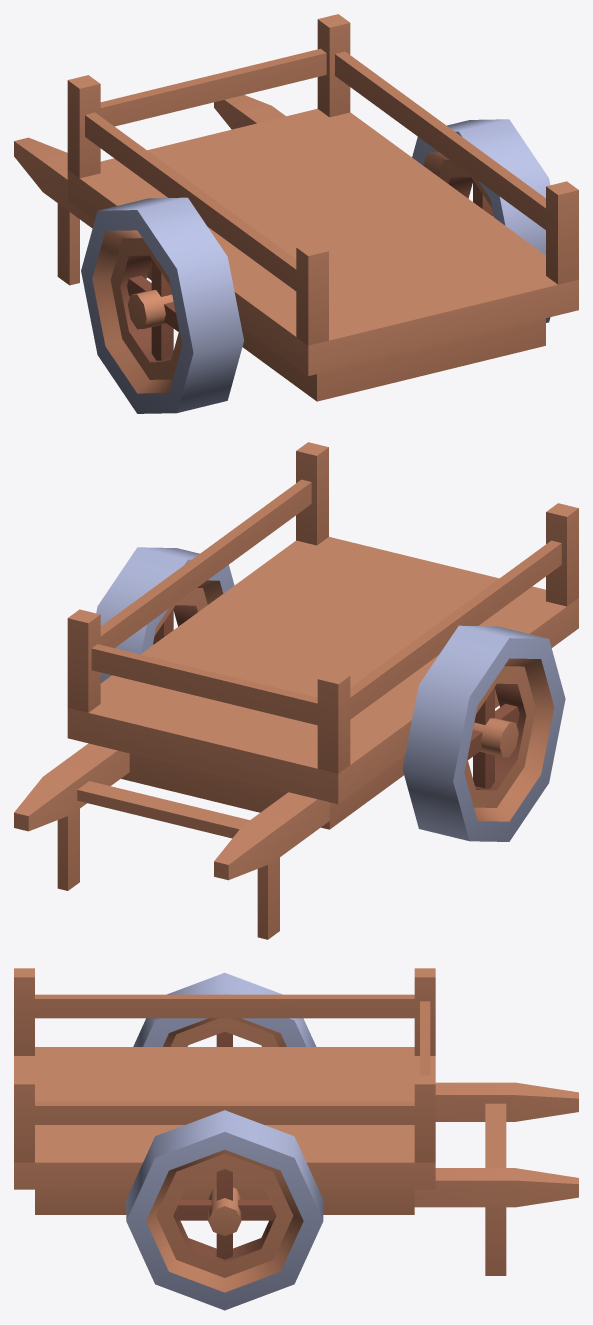
The model's file is cart.glb.
3 views of the same model, one above another, from view 1: azimuth 30°, elevation 25°; view 2: azimuth 150°, elevation 25°; view 3: azimuth 270°, elevation 25° (orthographic). The views are drawn at different scales.
Visible parts, largest first — view 1: cart; view 2: cart; view 3: cart.
Boxes of the visible parts, bbox=[...] form: cart: bbox=[14, 14, 578, 413]; cart: bbox=[14, 442, 578, 939]; cart: bbox=[14, 968, 578, 1310].
Bounding box in the file's own units: 0.893 × 0.5355 × 1.34.
Materials: 1 (1 with a texture image).
